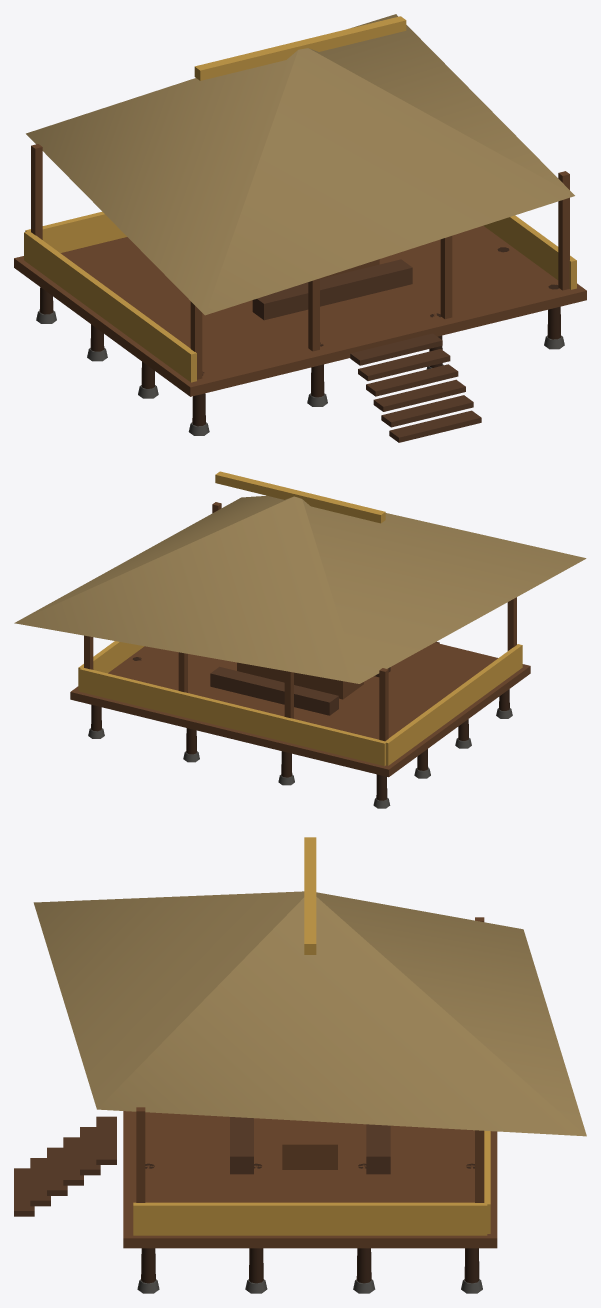
The model's file is sasadu-sahu.glb.
3 views of the same model, one above another, from view 1: azimuth 30°, elevation 25°; view 2: azimuth 150°, elevation 25°; view 3: azimuth 270°, elevation 25° (orthographic). The views are drawn at different scales.
Parts seen in each view (by area): view 1: ROOF_SYSTEM, FLOOR_SYSTEM, WALL_SYSTEM, ENTRANCE_STAIRS, STRUCTURAL_COLUMNS, BENCH_DEDEGU_S, FOUNDATION_SYSTEM; view 2: ROOF_SYSTEM, FLOOR_SYSTEM, WALL_SYSTEM, STRUCTURAL_COLUMNS, BENCH_DEDEGU_N, COUNCIL_TABLE_TABA, FOUNDATION_SYSTEM; view 3: ROOF_SYSTEM, FLOOR_SYSTEM, WALL_SYSTEM, ENTRANCE_STAIRS, STRUCTURAL_COLUMNS, COUNCIL_TABLE_TABA, BENCH_DEDEGU_S, BENCH_DEDEGU_N, FOUNDATION_SYSTEM.
Boxes of the visible parts, left/top/right/bottom form: ROOF_SYSTEM: left=26, top=14, right=574, bottom=315; FLOOR_SYSTEM: left=14, top=225, right=586, bottom=396; WALL_SYSTEM: left=24, top=211, right=576, bottom=382; ENTRANCE_STAIRS: left=350, top=333, right=481, bottom=442; STRUCTURAL_COLUMNS: left=31, top=144, right=569, bottom=426; BENCH_DEDEGU_S: left=252, top=259, right=412, bottom=320; FOUNDATION_SYSTEM: left=36, top=310, right=564, bottom=435; ROOF_SYSTEM: left=14, top=471, right=586, bottom=683; FLOOR_SYSTEM: left=70, top=642, right=530, bottom=777; WALL_SYSTEM: left=78, top=641, right=522, bottom=766; STRUCTURAL_COLUMNS: left=84, top=502, right=516, bottom=800; BENCH_DEDEGU_N: left=210, top=666, right=338, bottom=715; COUNCIL_TABLE_TABA: left=237, top=662, right=363, bottom=699; FOUNDATION_SYSTEM: left=88, top=708, right=512, bottom=808; ROOF_SYSTEM: left=33, top=837, right=586, bottom=1136; FLOOR_SYSTEM: left=123, top=1111, right=497, bottom=1248; WALL_SYSTEM: left=133, top=1130, right=490, bottom=1235; ENTRANCE_STAIRS: left=14, top=1116, right=116, bottom=1216; STRUCTURAL_COLUMNS: left=136, top=917, right=484, bottom=1283; COUNCIL_TABLE_TABA: left=282, top=1119, right=337, bottom=1169; BENCH_DEDEGU_S: left=230, top=1117, right=253, bottom=1174; BENCH_DEDEGU_N: left=366, top=1124, right=390, bottom=1174; FOUNDATION_SYSTEM: left=137, top=1279, right=482, bottom=1293.
Size of what is drawn, in the model's own units: 10.95 by 6.7 by 11.33.
